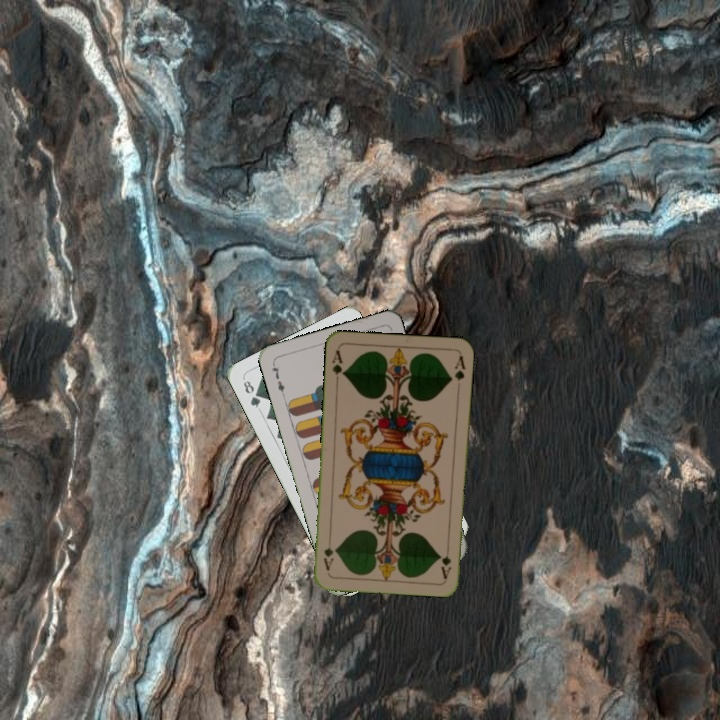E7: (268, 359, 287, 399)
G8: (239, 376, 263, 411)
GA: (328, 346, 347, 386), (438, 540, 454, 581)
